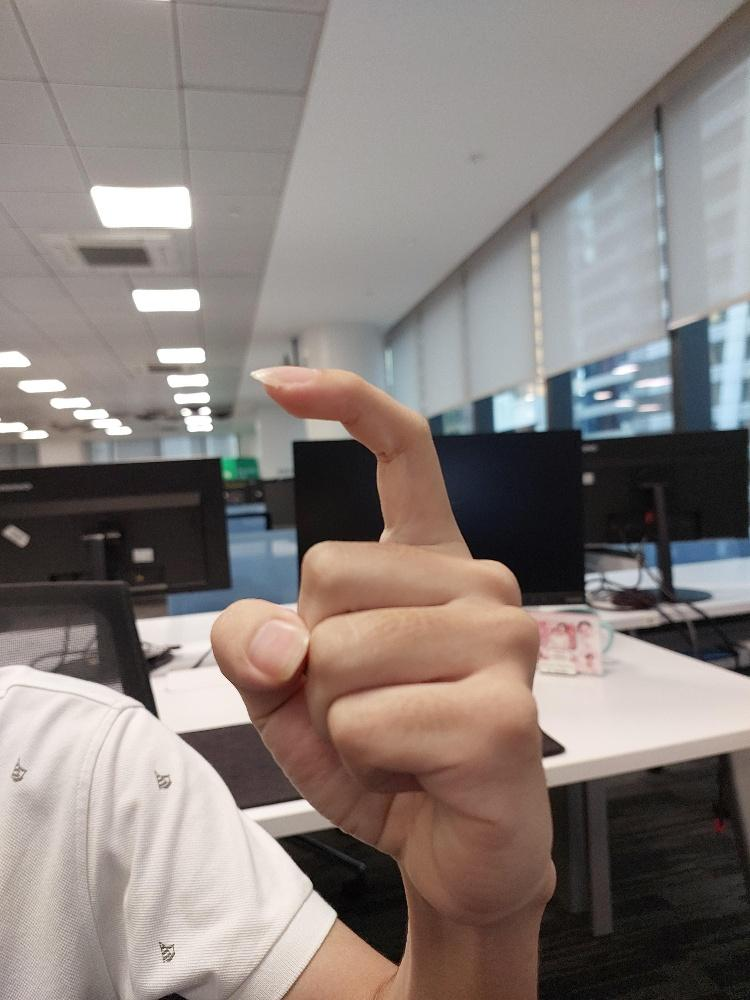x: (209, 364, 556, 919)
